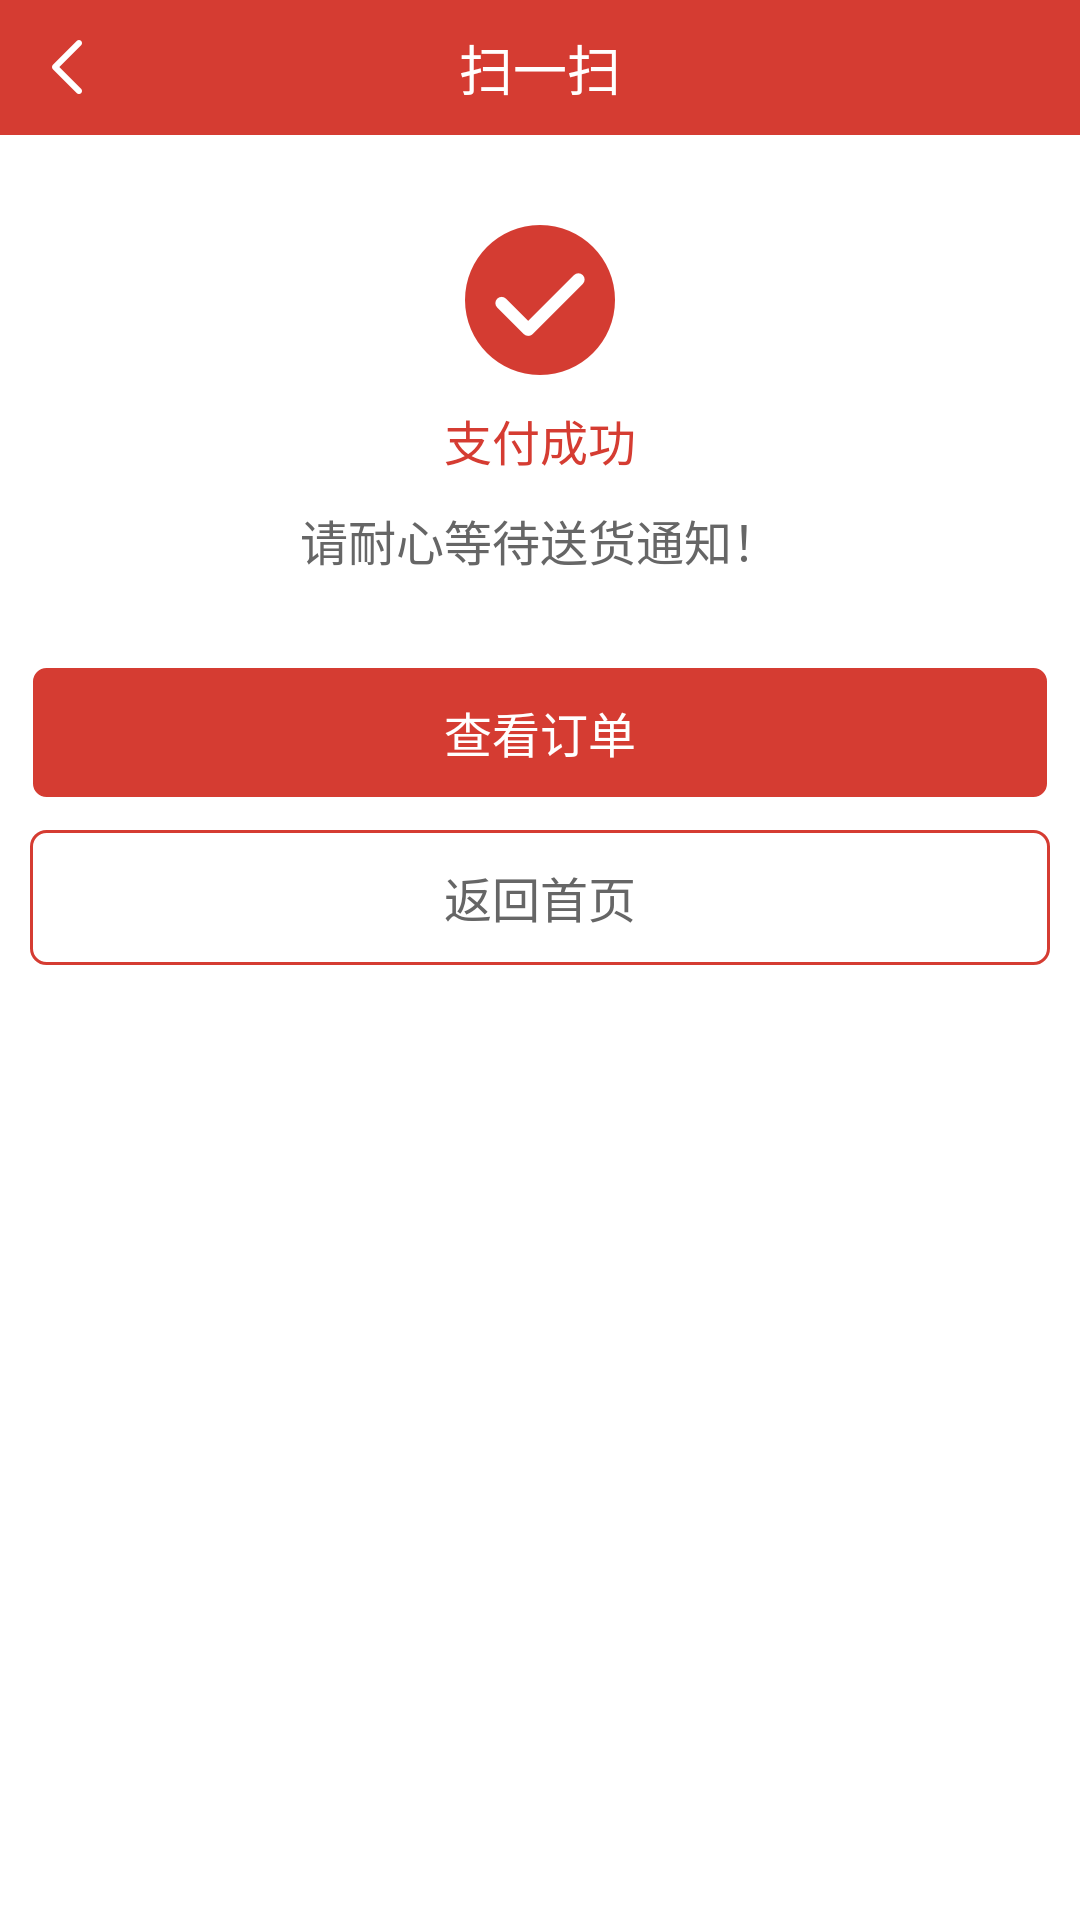

Where icons sit on this 1080px x 1920px app screen, as [x1=x1, y1=y1, x2=x2, y2=y2]:
balance ok: [x1=465, y1=225, x2=615, y2=375]
class back: [x1=52, y1=40, x2=82, y2=94]
